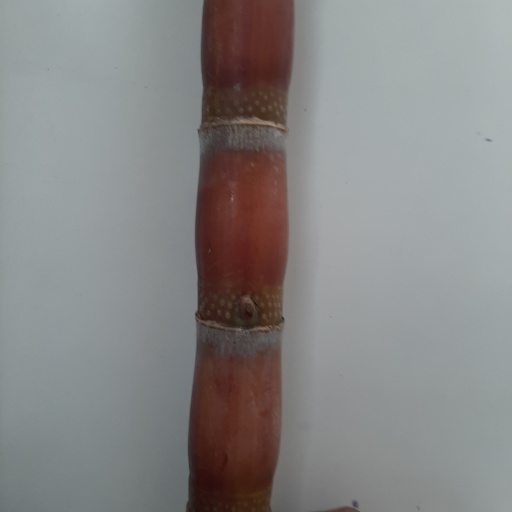Bud: (236, 294, 262, 325)
